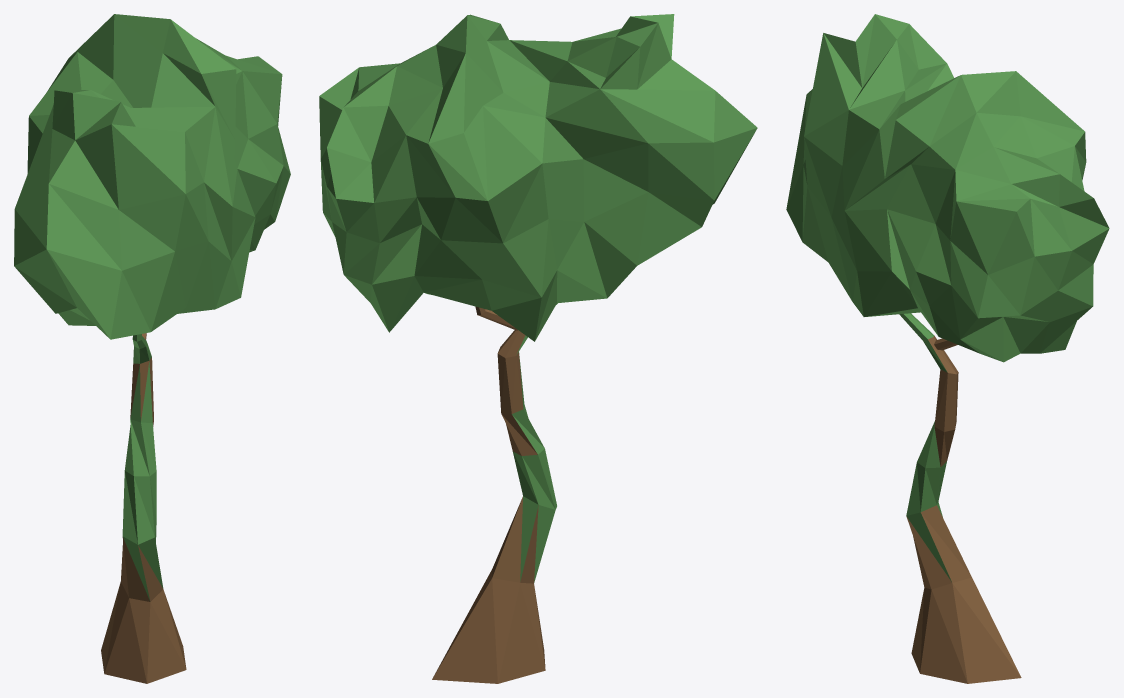
File: tree3d-047.glb
3 renders of one model, left to right at view 1: azimuth 30°, elevation 25°; view 2: azimuth 150°, elevation 25°; view 3: azimuth 270°, elevation 25°, orthographic. The views are drawn at different scales.
Visible parts, largest first — view 1: tree3d-047; view 2: tree3d-047; view 3: tree3d-047.
Part boxes in pixels (box(x1,y1,x2,y2)): tree3d-047: box(14, 14, 290, 683); tree3d-047: box(319, 14, 757, 683); tree3d-047: box(786, 14, 1109, 683).
Bounding box in the file's own units: 0.5526 × 1 × 0.487.
